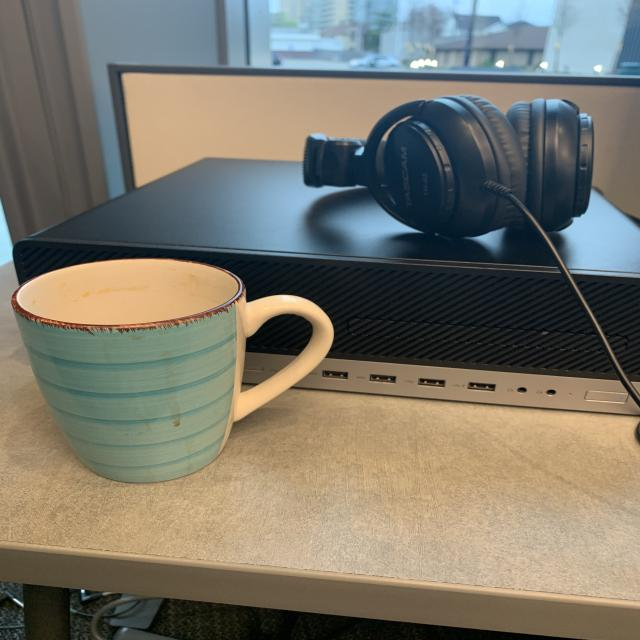Cup: (11, 256, 336, 488)
